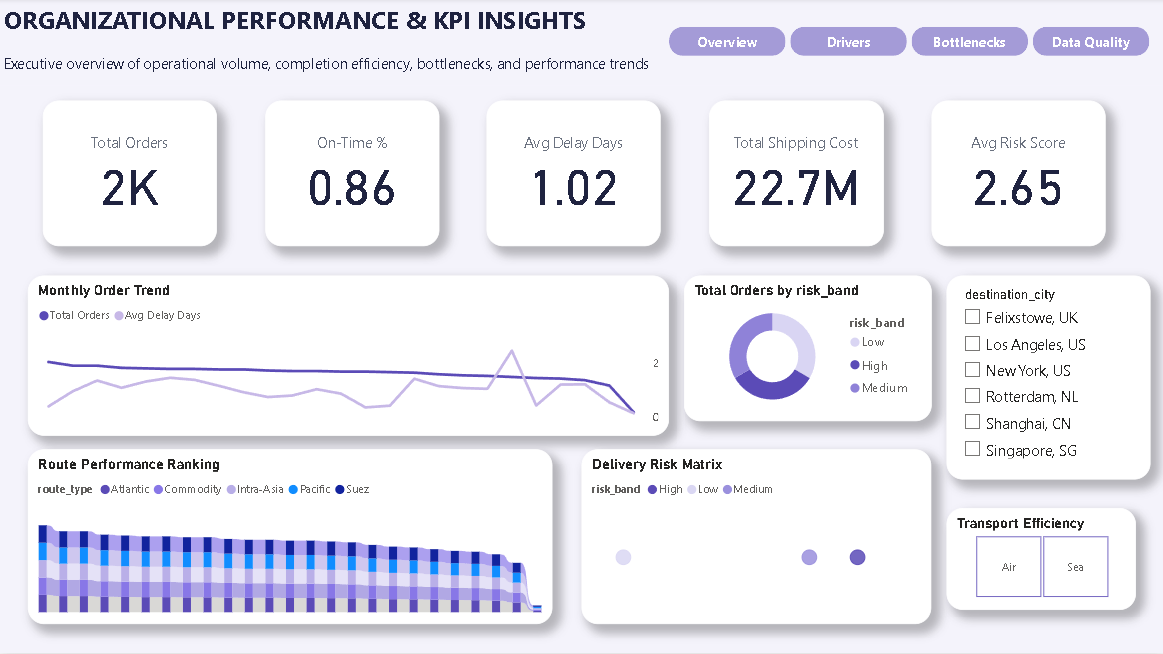

Layout of this report page (visuals, bound fields, positions):
{"tool":"powerbi","page":{"name":"Executive Overview","canvas":[1280,720],"ordinal":0},"visuals":[{"type":"actionButton","box":[736,32,128,32],"z":0,"group":"g1"},{"type":"textbox","box":[16,112,224,576],"z":0},{"type":"actionButton","box":[1136,32,128,32],"z":1000,"group":"g1"},{"type":"actionButton","box":[1002.7,32,128,32],"z":2000,"group":"g1"},{"type":"cardVisual","fields":{"Data":["Date.Total Orders"]},"box":[272,112,180,110],"z":2000},{"type":"actionButton","box":[869.3,32,128,32],"z":3000,"group":"g1"},{"type":"cardVisual","title":"On-Time Delivery %","fields":{"Data":["Date.On-Time %"]},"box":[472,112,180,110],"z":3000},{"type":"cardVisual","fields":{"Data":["Date.Avg Delay Days"]},"box":[672,112,180,110],"z":4000},{"type":"cardVisual","fields":{"Data":["Date.Total Shipping Cost"]},"box":[872,112,180,110],"z":5000},{"type":"cardVisual","fields":{"Data":["Date.Avg Risk Score"]},"box":[1072,112,180,110],"z":6000},{"type":"lineChart","title":"Monthly Order Trend","fields":{"Category":["Date.YearMonth"],"Y":["Date.Total Orders"],"Y2":["Date.Avg Delay Days"]},"box":[272,240,624,224],"z":7000},{"type":"donutChart","fields":{"Category":["ops v_fact_operations.risk_band"],"Y":["Date.Total Orders"]},"box":[928,240,320,224],"z":8000},{"type":"textbox","box":[0,0,1280,96],"z":9000},{"type":"group","id":"g1","title":"Group 1","box":[736,32,528,32],"z":10000},{"type":"scatterChart","title":"Delivery Risk Matrix","fields":{"X":["Sum(ops v_driver_breakdown.avg_delay_days)"],"Y":["Sum(ops v_kpi_monthly.avg_risk_score)"],"Size":["Sum(ops v_kpi_monthly.total_orders)"],"Series":["ops v_driver_breakdown.risk_band"]},"box":[928,480,320,208],"z":11000},{"type":"slicer","title":"Transport Efficiency","fields":{"Values":["ops v_fact_operations.transportation_mode"]},"box":[32,416,192,224],"z":12000},{"type":"slicer","title":"Top Destination Locations","fields":{"Values":["ops v_fact_operations.destination_city"]},"box":[32,144,192,240],"z":13000},{"type":"ribbonChart","title":"Route Performance Ranking","fields":{"Category":["Date.YearMonth"],"Y":["Date.Total Orders"],"Series":["ops v_driver_breakdown.route_type"]},"box":[272,480,624,208],"z":14000}]}

Visuals, with their boxes in screenshot pixels (x1, y1, x2, y2), scaled from the page's 1280x720 canvas onto the 1163x654 screenshot:
actionButton: bbox=(669, 29, 785, 58)
textbox: bbox=(15, 102, 218, 625)
actionButton: bbox=(1032, 29, 1148, 58)
actionButton: bbox=(911, 29, 1027, 58)
cardVisual - Date.Total Orders: bbox=(247, 102, 411, 202)
actionButton: bbox=(790, 29, 906, 58)
"On-Time Delivery %" cardVisual: bbox=(429, 102, 592, 202)
cardVisual - Date.Avg Delay Days: bbox=(611, 102, 774, 202)
cardVisual - Date.Total Shipping Cost: bbox=(792, 102, 956, 202)
cardVisual - Date.Avg Risk Score: bbox=(974, 102, 1138, 202)
"Monthly Order Trend" lineChart: bbox=(247, 218, 814, 421)
donutChart - ops v_fact_operations.risk_band x Date.Total Orders: bbox=(843, 218, 1134, 421)
textbox: bbox=(0, 0, 1162, 87)
"Group 1" group: bbox=(669, 29, 1148, 58)
"Delivery Risk Matrix" scatterChart: bbox=(843, 436, 1134, 625)
"Transport Efficiency" slicer: bbox=(29, 378, 204, 581)
"Top Destination Locations" slicer: bbox=(29, 131, 204, 349)
"Route Performance Ranking" ribbonChart: bbox=(247, 436, 814, 625)
